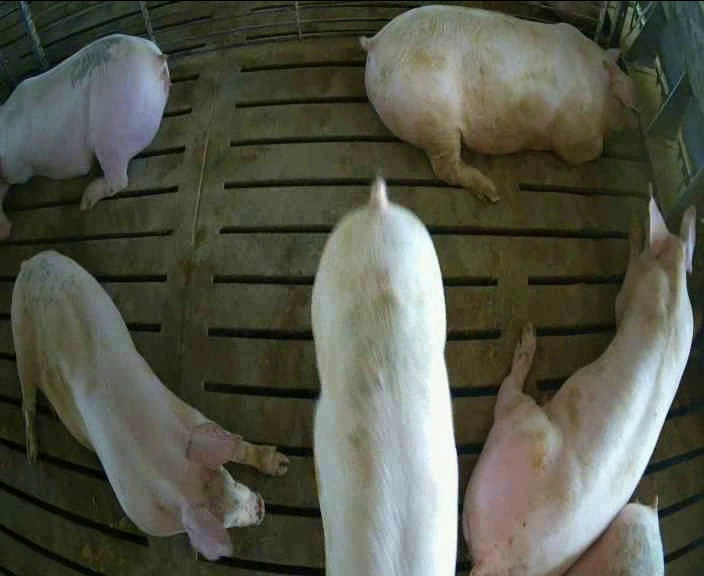pig: (464, 202, 694, 573), (11, 251, 287, 558), (312, 177, 457, 574), (361, 5, 639, 200), (0, 34, 168, 237)
